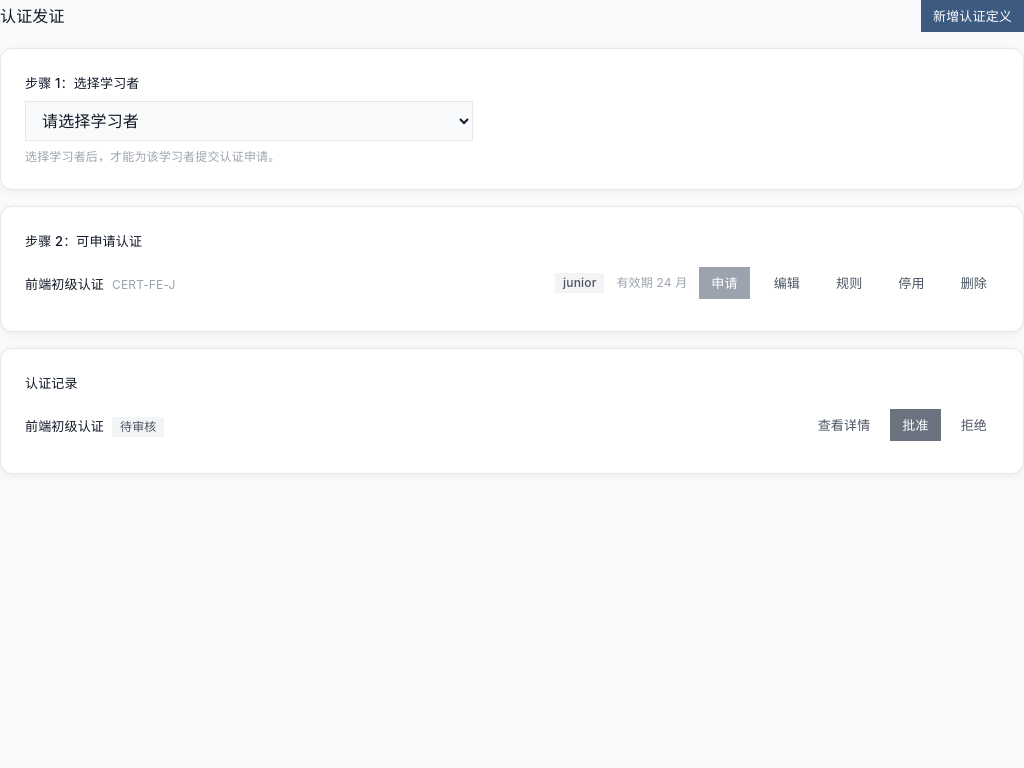
Test: CertificationTab › can manage certification rules and open record details
What coordinates should you click on to do the following:
click the button "规则"
I would click on:
 (849, 283)
Its box is [824,267,874,299].
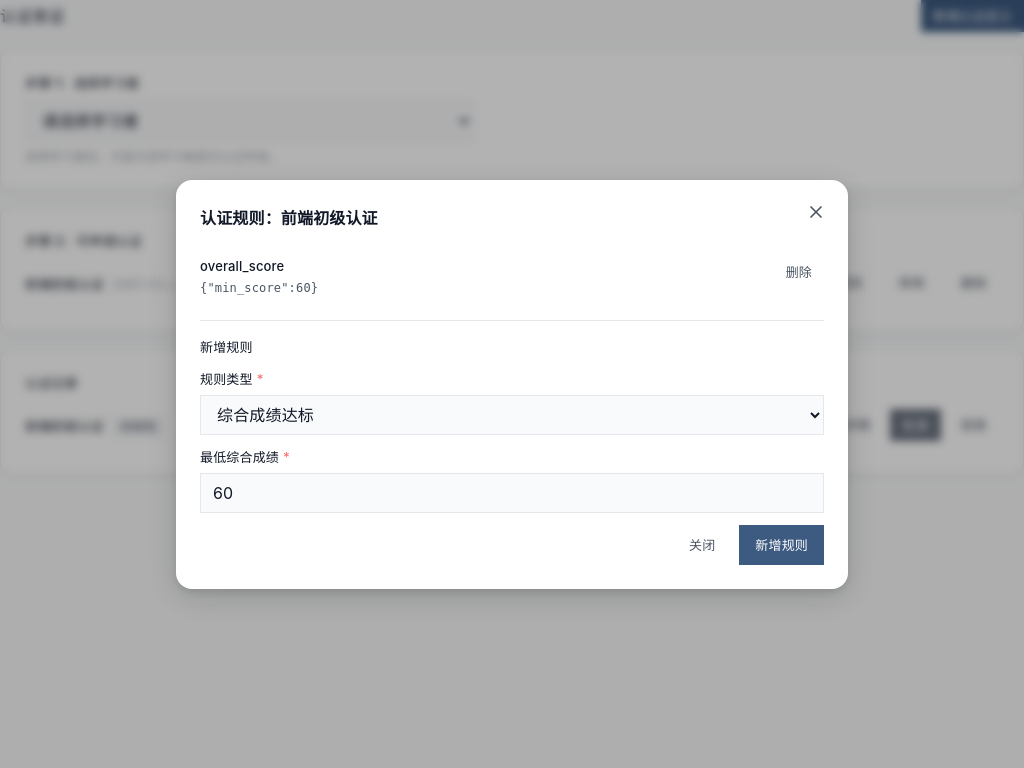
Expected: the heading "认证规则：前端初级认证" is shown, [200,208,378,228]
What coordinates should you click on to do the following:
click the button "关闭"
I would click on:
 (702, 544)
Its box is [673,524,731,564].
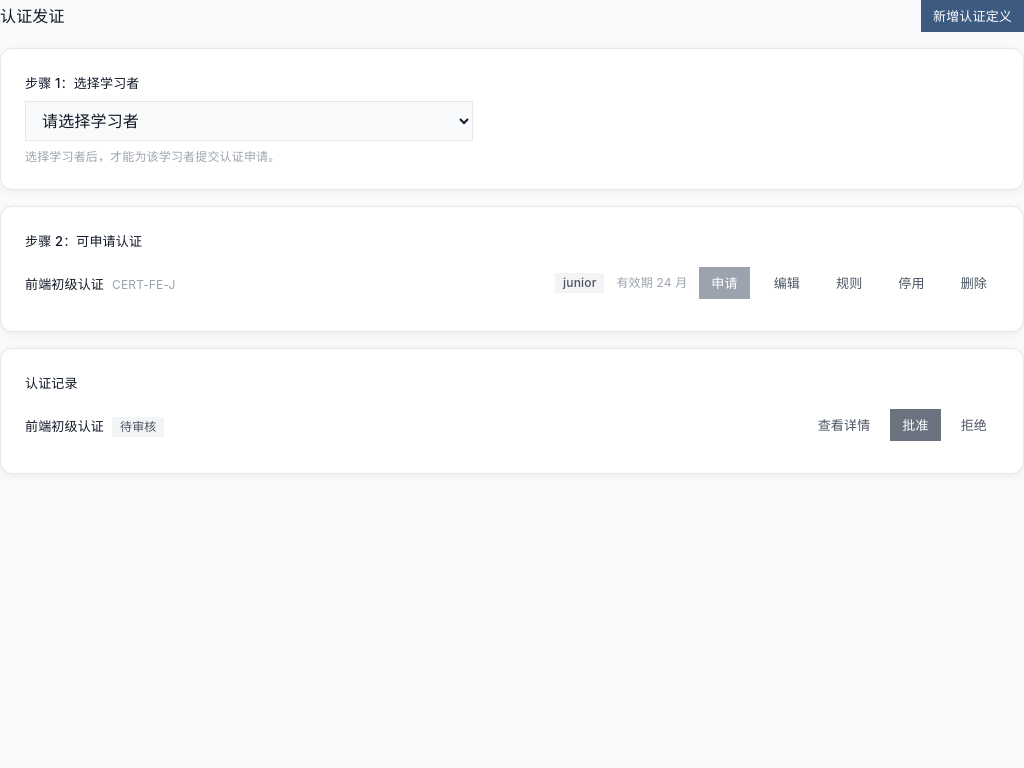
What coordinates should you click on to do the following:
click the button "查看详情"
I would click on:
 (844, 425)
Its box is [806,409,882,441].
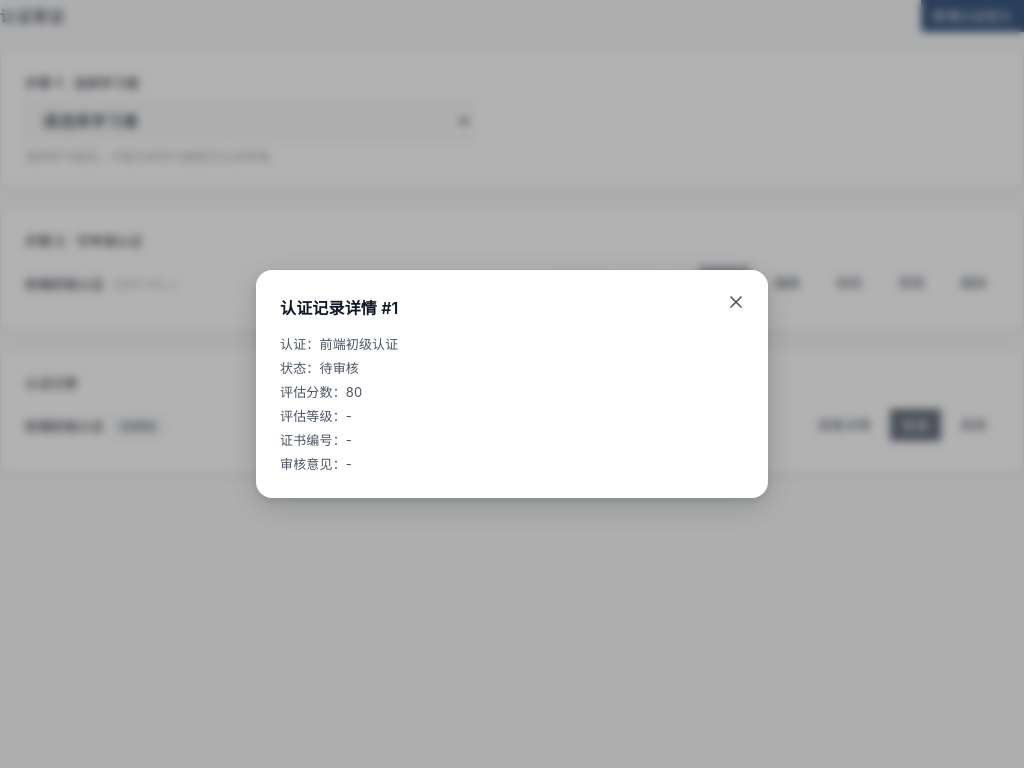
Expected: the heading "认证记录详情 #1" is shown, [280,298,398,318]
